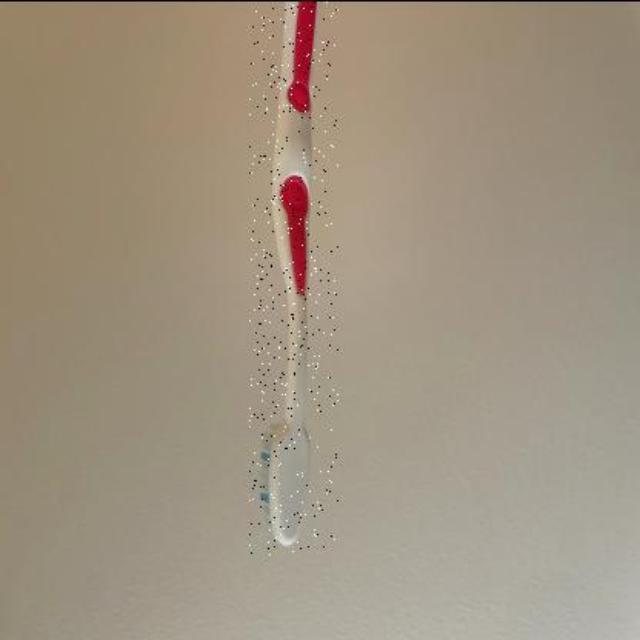toothbrush: (250, 0, 338, 556)
